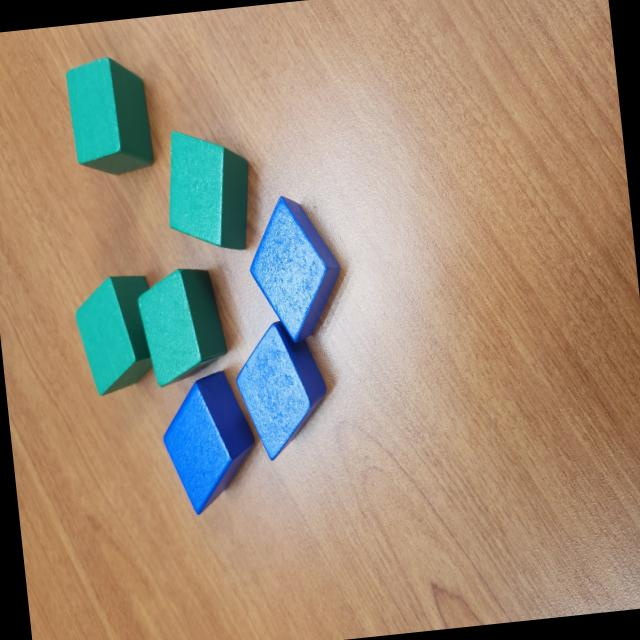blue: (242, 190, 348, 350), (156, 368, 262, 518), (229, 316, 334, 464)
green: (158, 121, 258, 256), (135, 262, 231, 388), (62, 52, 156, 180), (70, 271, 160, 398)
